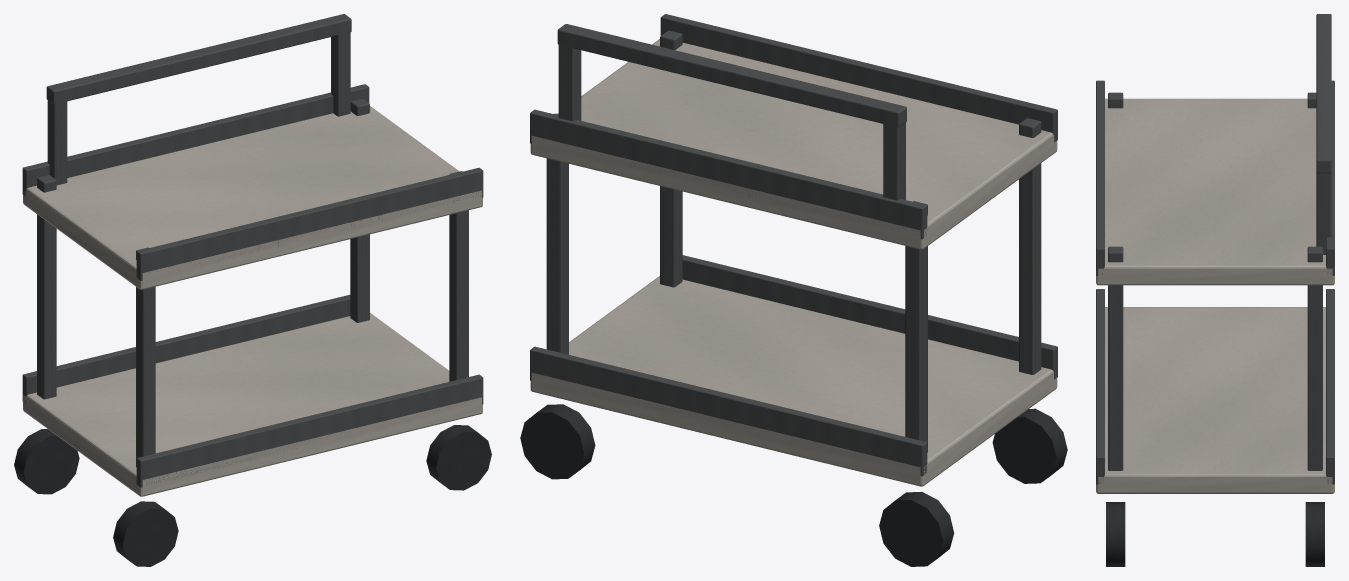
Rendered from equipment_cart.glb.
The picture shows the model from 3 angles, left to right: view 1: azimuth 30°, elevation 25°; view 2: azimuth 150°, elevation 25°; view 3: azimuth 270°, elevation 25°; orthographic projection. The views are drawn at different scales.
Visible parts, largest first — view 1: shelf.014, shelf.013, shelf_edge, shelf_edge.002, shelf_edge.003, shelf_edge.001, handle.012, post.019, post.018, post.020, wheel.018, wheel.020 (+4 smaller); view 2: shelf.013, shelf.014, shelf_edge.001, shelf_edge.003, shelf_edge.002, shelf_edge, handle.012, post.018, post.019, post.021, wheel.021, wheel.019 (+4 smaller); view 3: shelf.014, shelf.013, post.020, post.021, handle.012, shelf_edge, shelf_edge.001, shelf_edge.002, wheel.020, wheel.021, handle_upright.001, shelf_edge.003.
Boxes of the visible parts, x1,y1,x2,y2 form: shelf.014: (23,106,482,289); shelf.013: (23,313,482,496); shelf_edge: (136,374,483,487); shelf_edge.002: (136,167,483,280); shelf_edge.003: (22,84,369,195); shelf_edge.001: (22,294,350,403); handle.012: (46,14,351,104); post.019: (37,175,56,399); post.018: (136,247,155,466); post.020: (449,171,468,381); wheel.018: (113,501,178,566); wheel.020: (426,425,491,490); shelf.013: (530,276,1057,486); shelf.014: (530,39,1057,249); shelf_edge.001: (530,346,927,476); shelf_edge.003: (530,109,927,239); shelf_edge.002: (660,14,1057,142); shelf_edge: (682,255,1057,379); handle.012: (557,24,906,127); post.018: (1019,118,1041,374); post.019: (905,201,927,452); post.021: (546,113,568,354); wheel.021: (520,404,595,479); wheel.019: (879,492,954,566); shelf.014: (1096,98,1334,285); shelf.013: (1096,307,1334,493); post.020: (1108,246,1123,470); post.021: (1307,246,1322,470); handle.012: (1316,14,1331,173); shelf_edge: (1096,289,1104,484); shelf_edge.001: (1326,289,1334,484); shelf_edge.002: (1096,80,1104,275); wheel.020: (1106,502,1125,566); wheel.021: (1305,502,1324,566); handle_upright.001: (1316,172,1331,254); shelf_edge.003: (1326,80,1334,275).
Bounding box in the file's own units: 0.99 × 1.02 × 0.55.
Materials: 3 (3 with a texture image).
